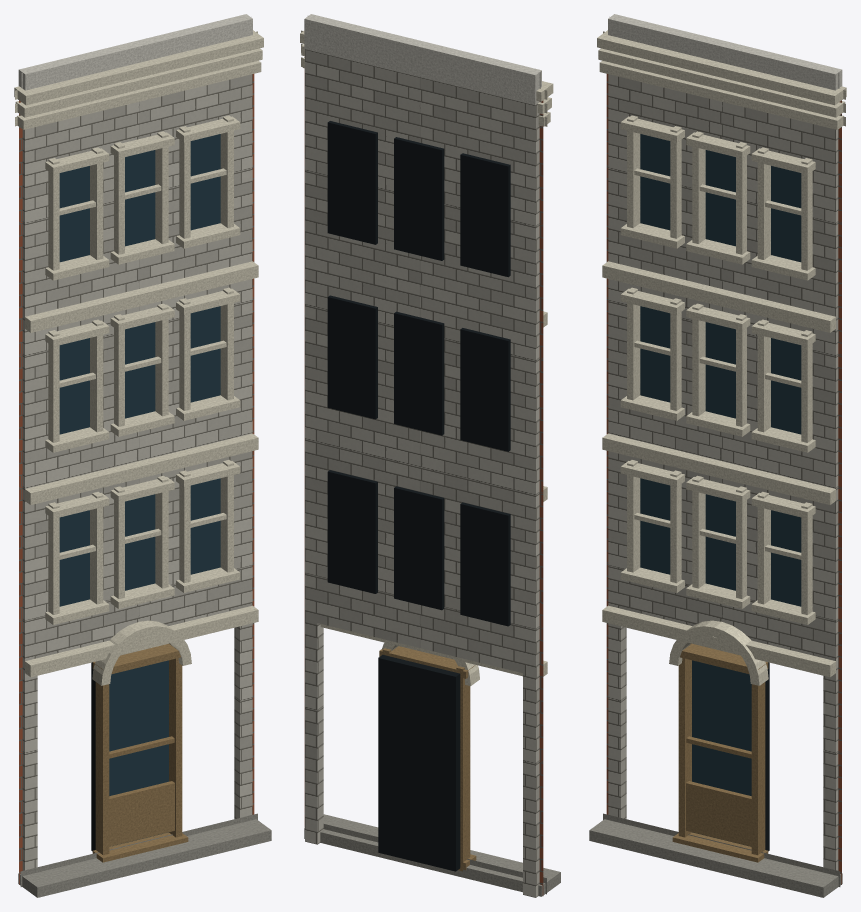
The model's file is OFFC15_lod2.glb.
3 renders of one model, left to right at view 1: azimuth 30°, elevation 25°; view 2: azimuth 150°, elevation 25°; view 3: azimuth 330°, elevation 25°, orthographic.
Parts seen in each view (by area): view 1: OFFC15_FRONT_LOD2; view 2: OFFC15_FRONT_LOD2; view 3: OFFC15_FRONT_LOD2.
Part boxes in pixels (left/top/right/bottom): OFFC15_FRONT_LOD2: left=14, top=14, right=271, bottom=897; OFFC15_FRONT_LOD2: left=300, top=14, right=560, bottom=897; OFFC15_FRONT_LOD2: left=589, top=14, right=846, bottom=897.
Bounding box in the file's own units: 3.84 × 12.26 × 0.68.
Materials: 9 (7 with a texture image).
